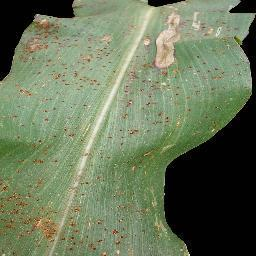Corn_Common_Rust: (0, 0, 256, 143), (1, 141, 204, 256)
